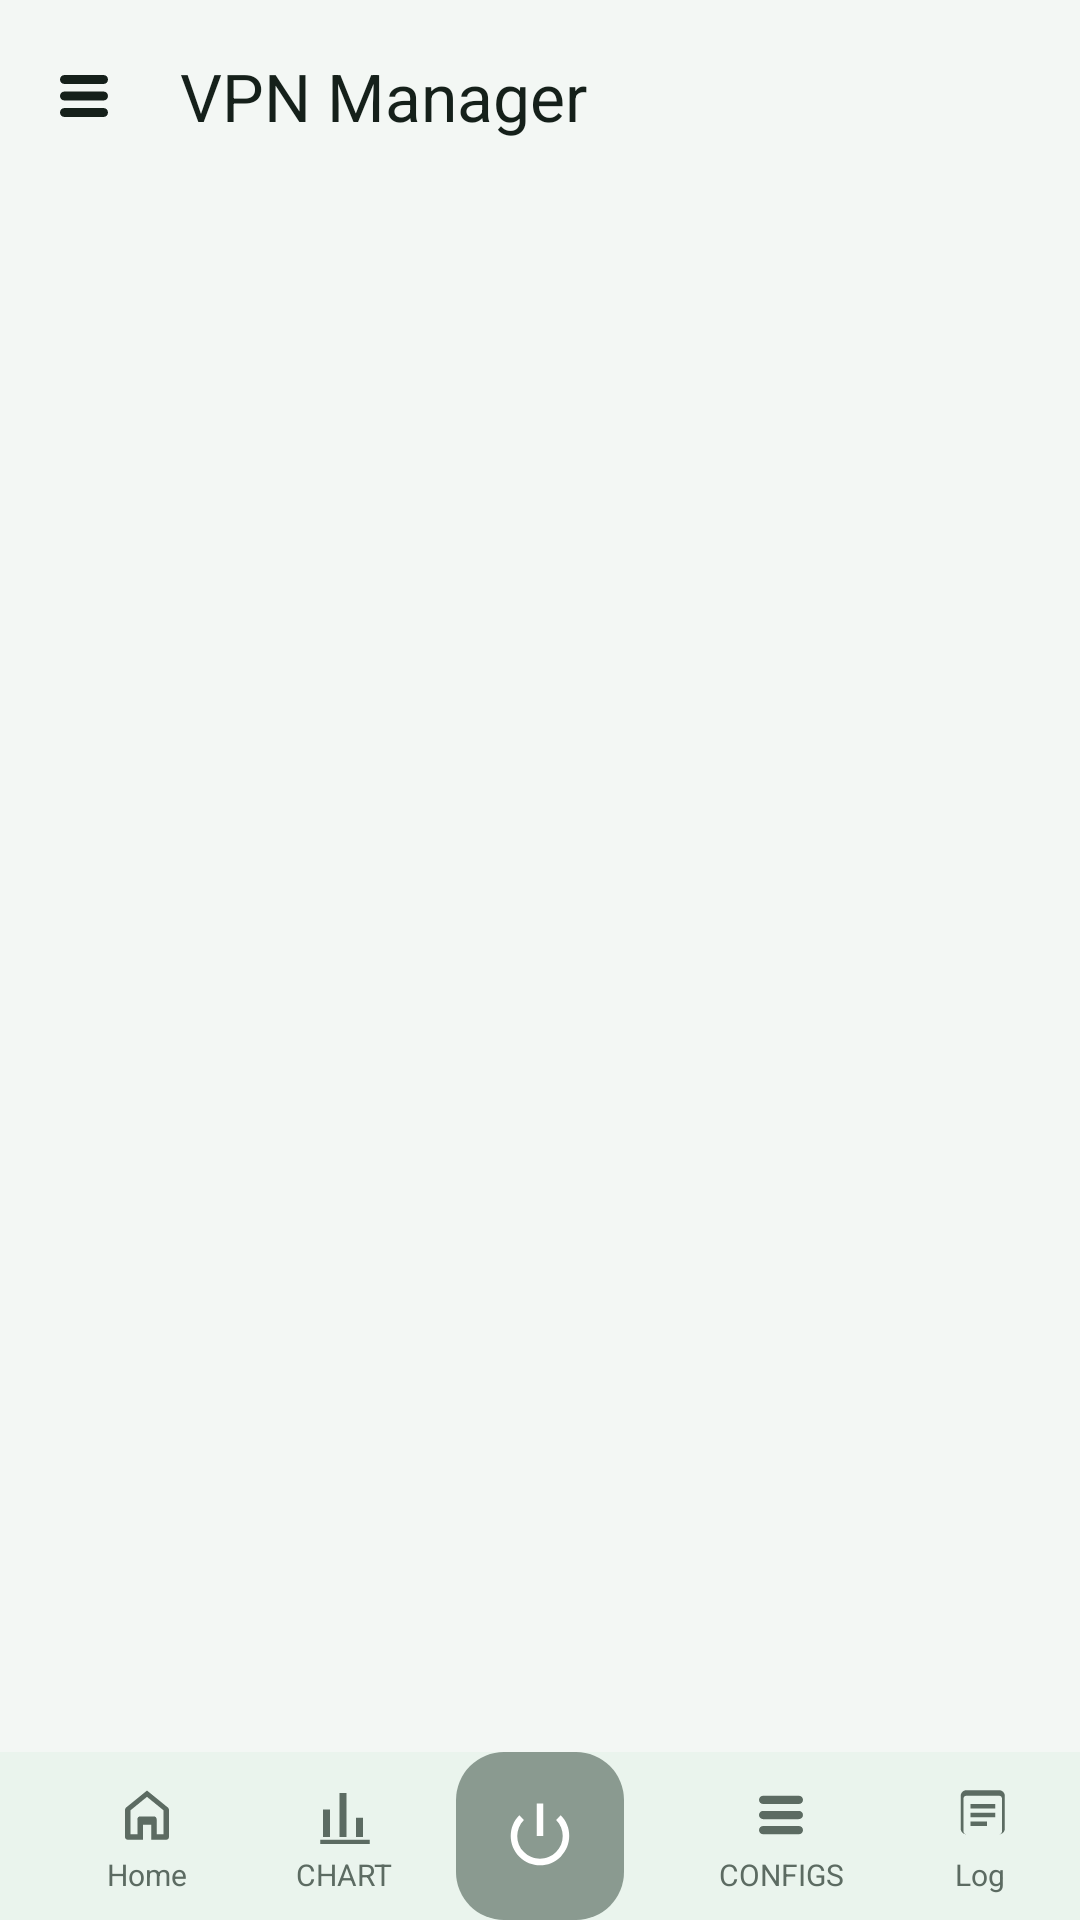

Icons on this 1080 × 1920 Android screen, each with its box as (x1, y1, x2, y2):
เชื่อมต่อ / ตัดการเชื่อมต่อ: (456, 1752, 624, 1920)
